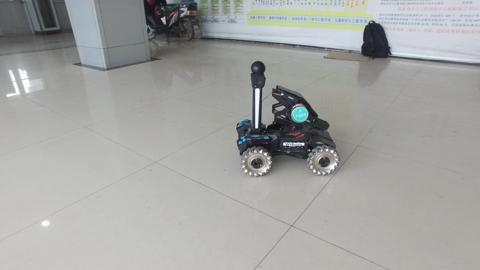bag: (358, 18, 392, 60)
chariot: (234, 59, 339, 177)
